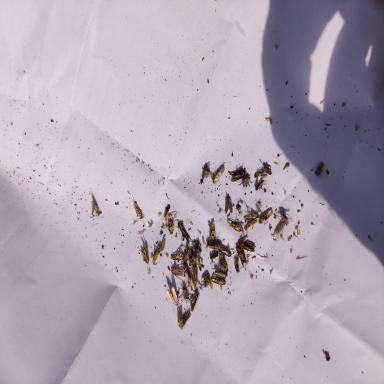pbw: (130, 197, 144, 225), (234, 245, 250, 269), (229, 165, 247, 182), (178, 221, 192, 242), (166, 285, 180, 306), (238, 236, 256, 252), (213, 162, 225, 184), (208, 217, 219, 240), (276, 221, 286, 244), (139, 242, 149, 265), (259, 209, 273, 225), (244, 217, 260, 231), (218, 252, 229, 272), (192, 264, 202, 286), (228, 220, 244, 232), (152, 247, 162, 266), (190, 293, 200, 312), (225, 190, 233, 213), (166, 213, 174, 235), (243, 211, 260, 221), (177, 306, 184, 330), (220, 246, 232, 260), (188, 276, 198, 292), (210, 276, 226, 286), (183, 307, 191, 327), (170, 268, 186, 278), (182, 261, 191, 278), (314, 162, 324, 176), (206, 241, 223, 249), (184, 243, 192, 260), (215, 270, 228, 280), (170, 251, 184, 260), (176, 226, 184, 241), (161, 234, 166, 251), (254, 173, 268, 179), (164, 205, 170, 218)
